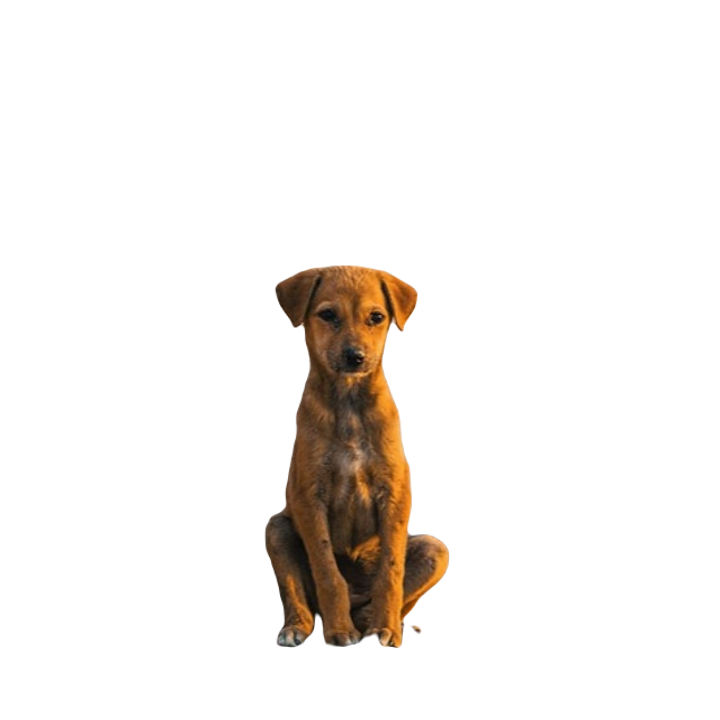Dog: (263, 263, 449, 649)
